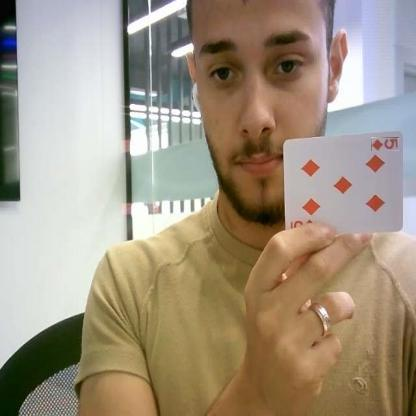5D: (371, 137, 399, 151)
